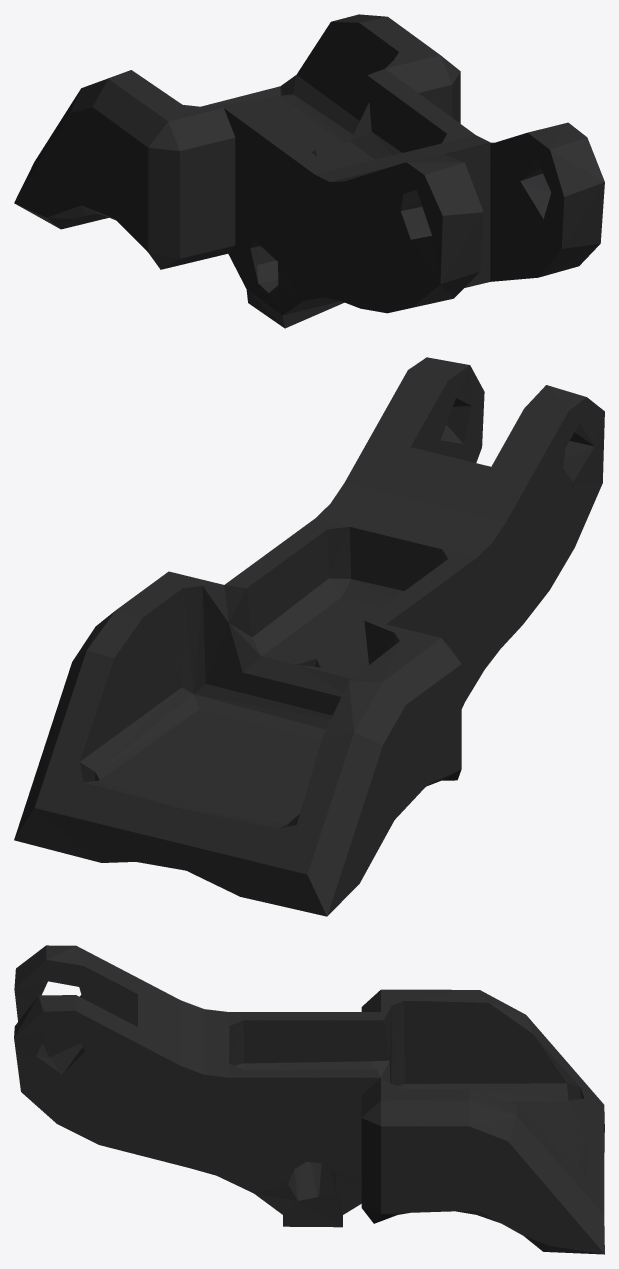
File: fingertip.dae
3 views of the same model, one above another, from view 1: azimuth 30°, elevation 25°; view 2: azimuth 150°, elevation 25°; view 3: azimuth 270°, elevation 25° (orthographic). The views are drawn at different scales.
Parts seen in each view (by area): view 1: node; view 2: node; view 3: node.
Boxes of the visible parts, x1,y1,x2,y2 form: node: [14, 14, 604, 328]; node: [14, 357, 604, 916]; node: [14, 945, 604, 1254].
Size of the model in its own units: 0.031 by 0.0248 by 0.0609.
1 material, 1 textured.
